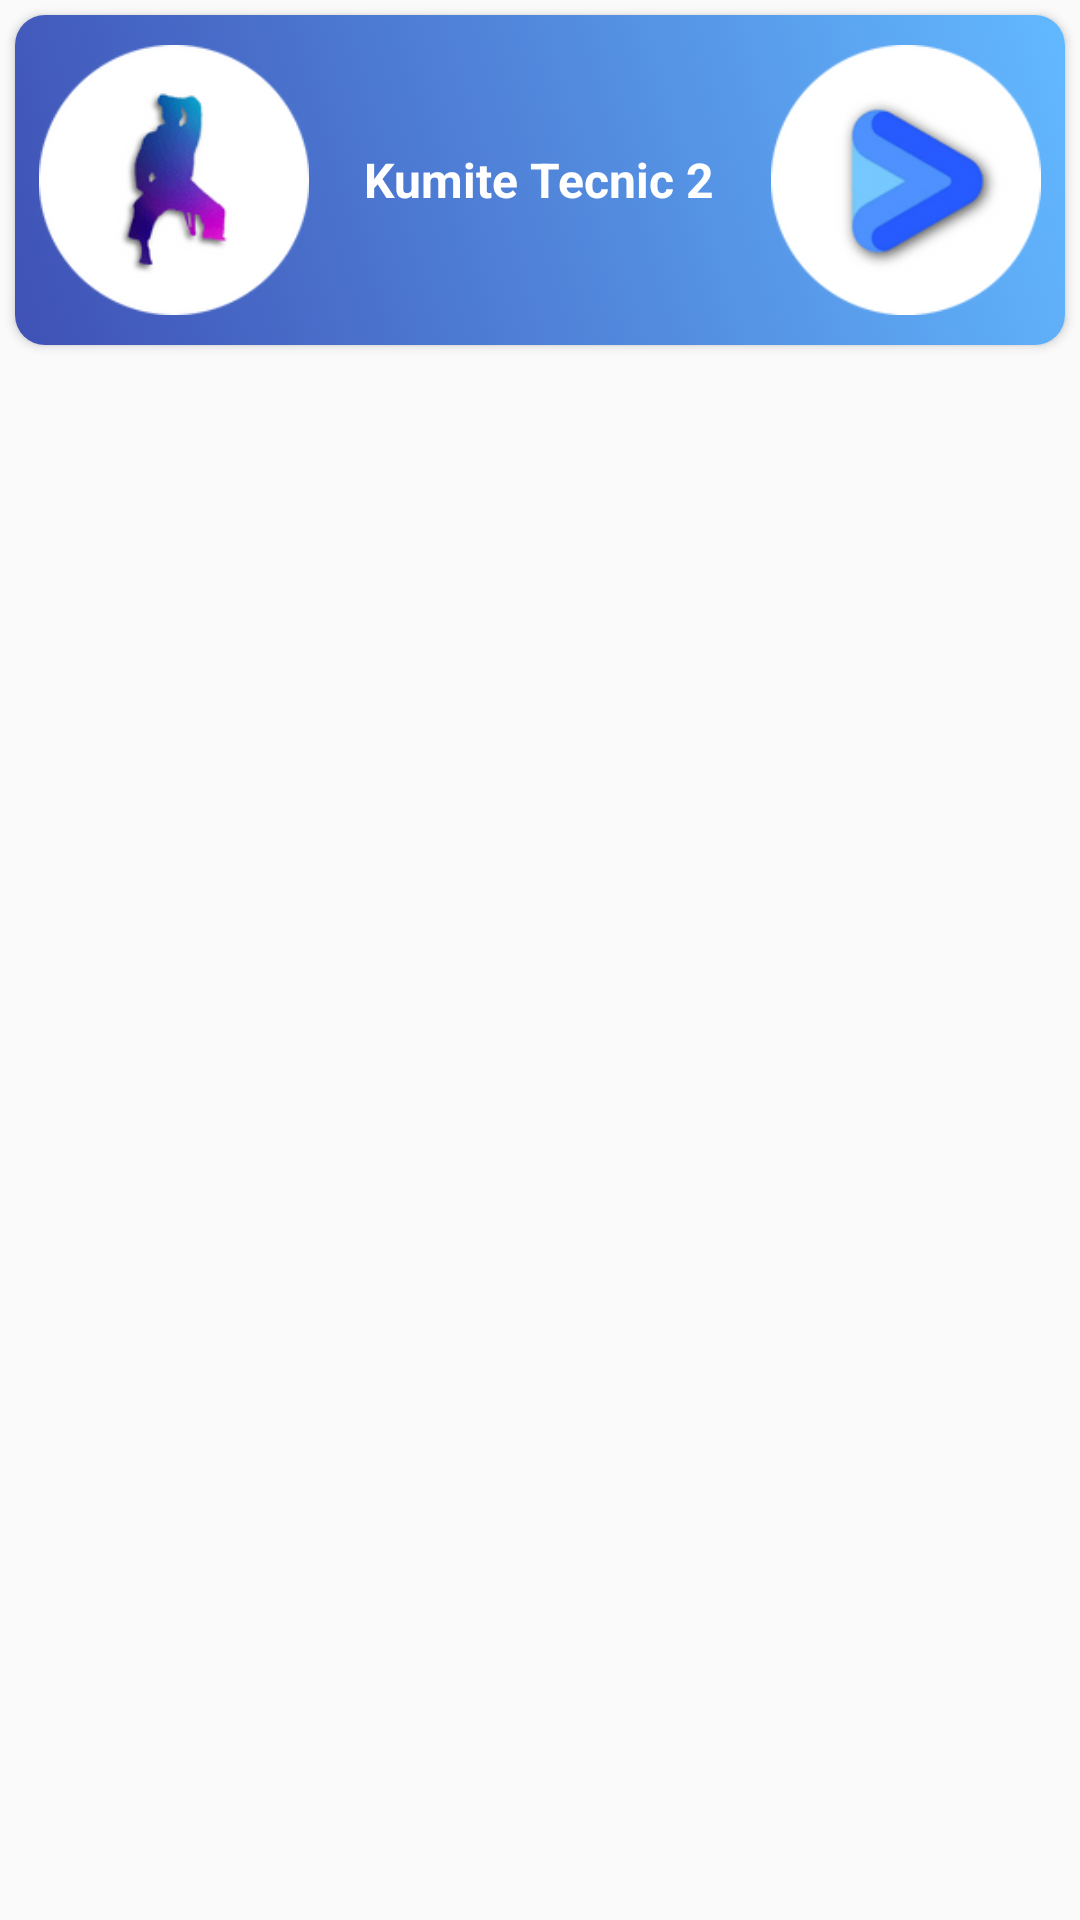

Named icons in this screenshot (1080px x 1920px) and their centers, [x,y]:
katta: [174,180]
